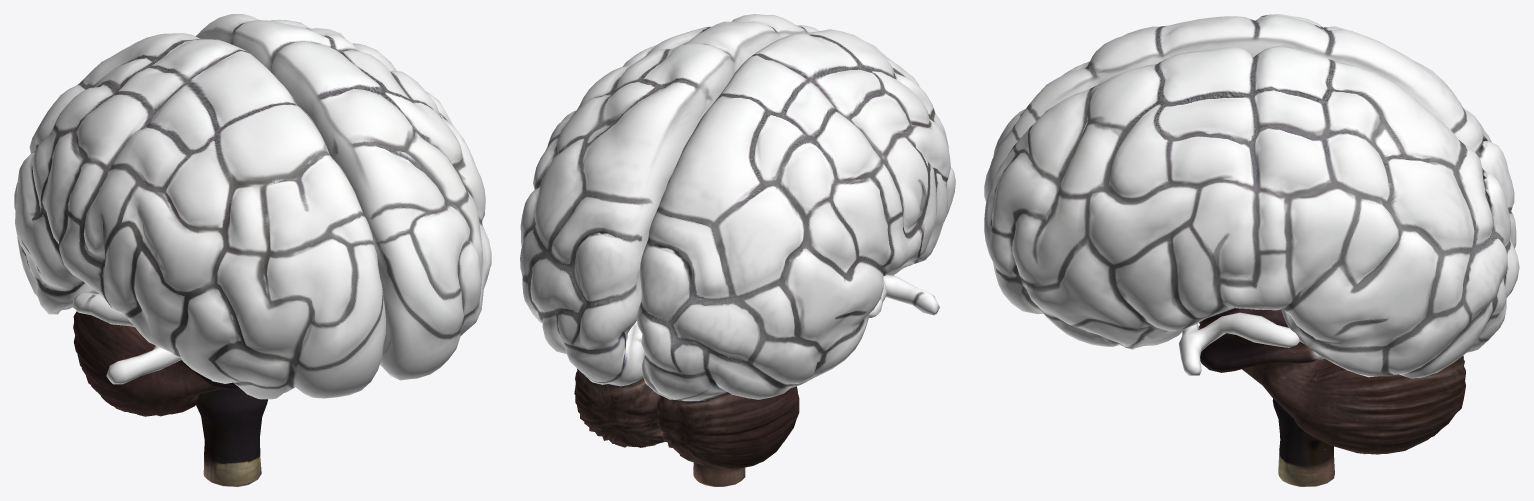
File: platinum-brain.glb
3 renders of one model, left to right at view 1: azimuth 30°, elevation 25°; view 2: azimuth 150°, elevation 25°; view 3: azimuth 270°, elevation 25°, orthographic. The views are drawn at different scales.
Size of the model in its own units: 1.49 by 1.74 by 1.92.
Materials: 1 (1 with a texture image).
